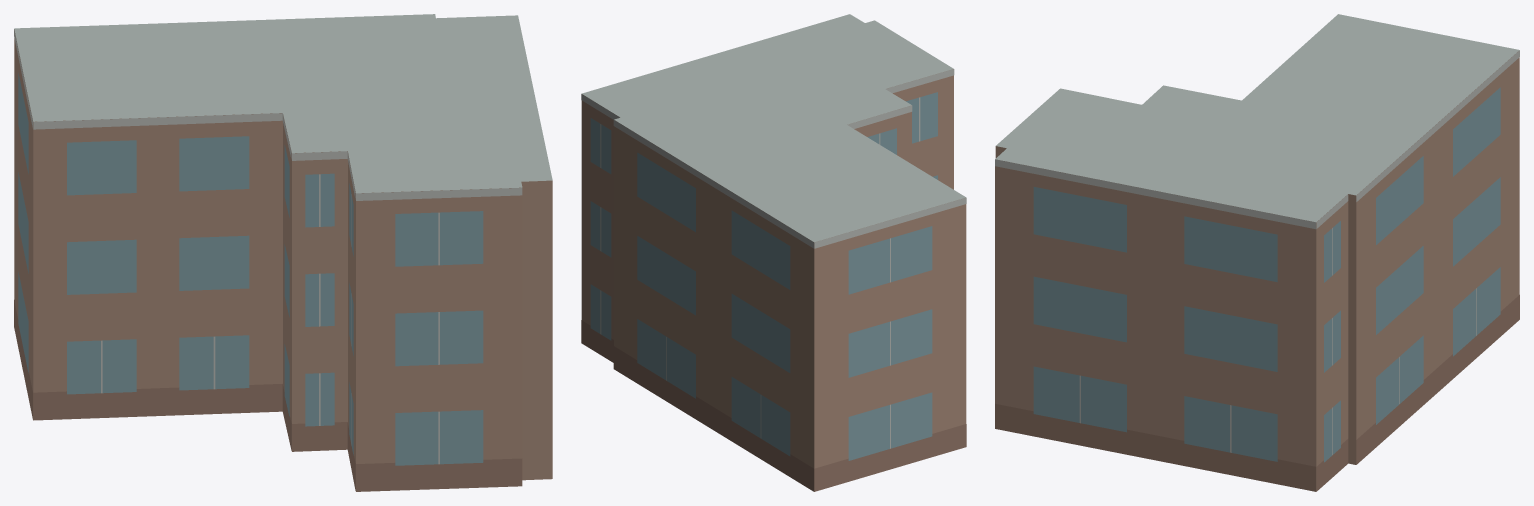
File: survey-upis-32486395.glb
3 renders of one model, left to right at view 1: azimuth 30°, elevation 25°; view 2: azimuth 150°, elevation 25°; view 3: azimuth 270°, elevation 25°, orthographic. The views are drawn at different scales.
Parts seen in each view (by area): view 1: survey-upis-32486395.tmp; view 2: survey-upis-32486395.tmp; view 3: survey-upis-32486395.tmp.
Boxes of the visible parts, <box> form: survey-upis-32486395.tmp: <box>14,14,552,491</box>; survey-upis-32486395.tmp: <box>581,14,966,491</box>; survey-upis-32486395.tmp: <box>995,14,1519,491</box>.
Size of the model in its own units: 15.59 by 9.4 by 16.59.
